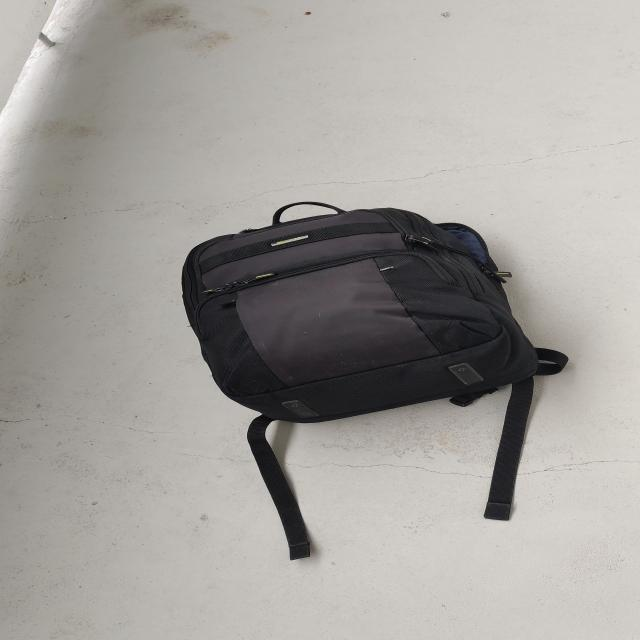backpack: (169, 194, 550, 435)
